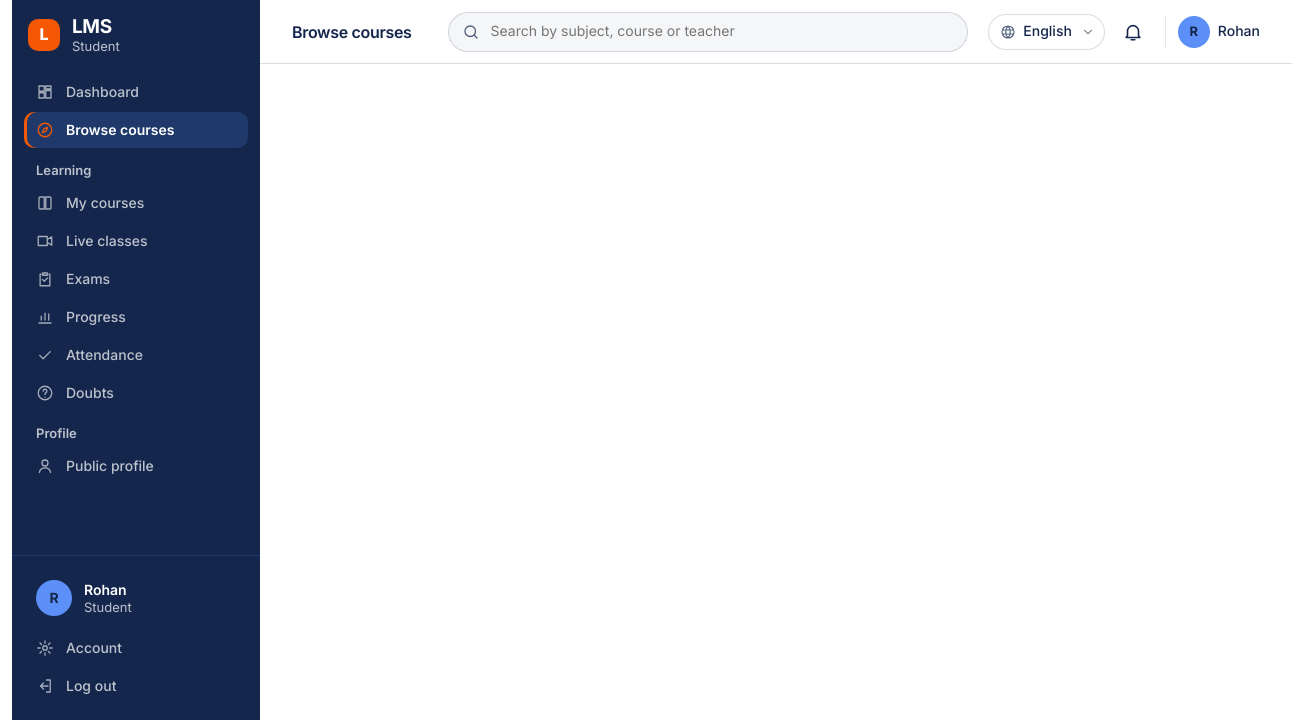
Test: student top bar shows the course search only on Browse courses and puts the query in the URL; teachers get none
This screenshot has width=1292, height=720.
Later steps or results of the test are not shown.
Type "maths" into the search field labelled "Search" at point(708, 32), box [448,12,968,52]
Then press Enter
(page scrolled)
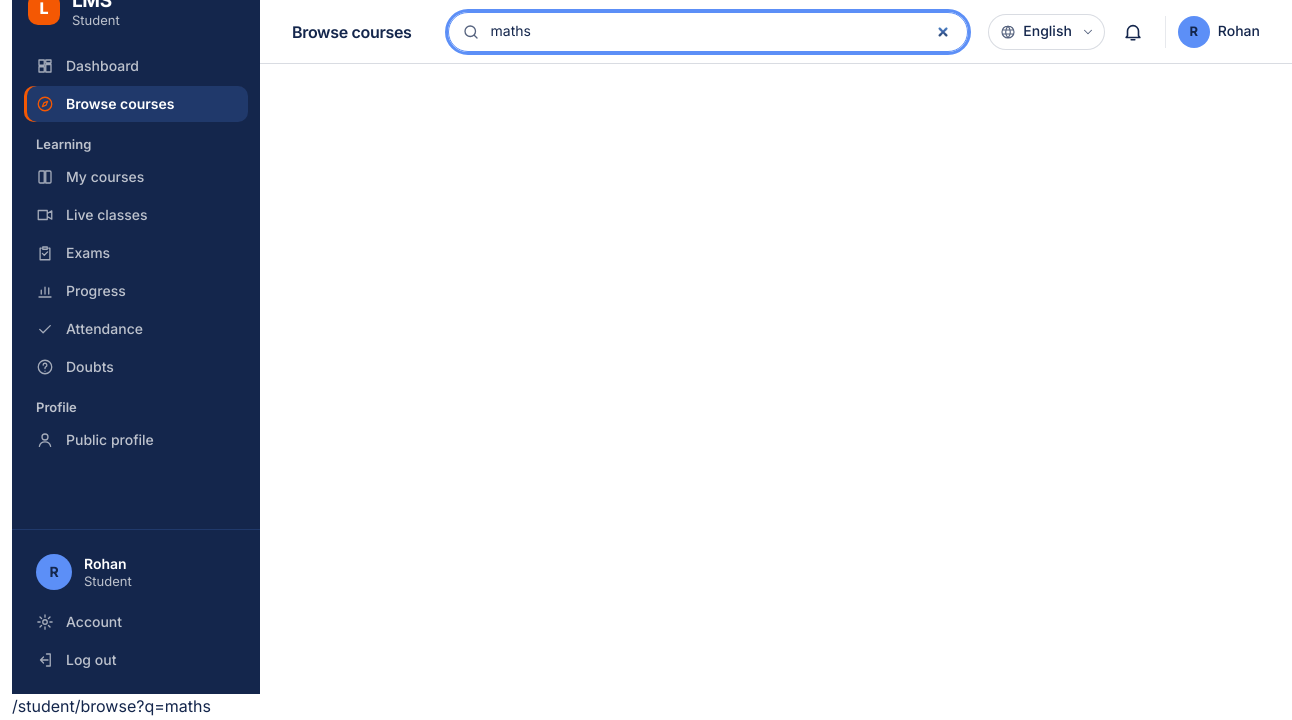
Expected: the text with test id "loc" reads "/student/browse?q=maths", [12,696,211,716]
